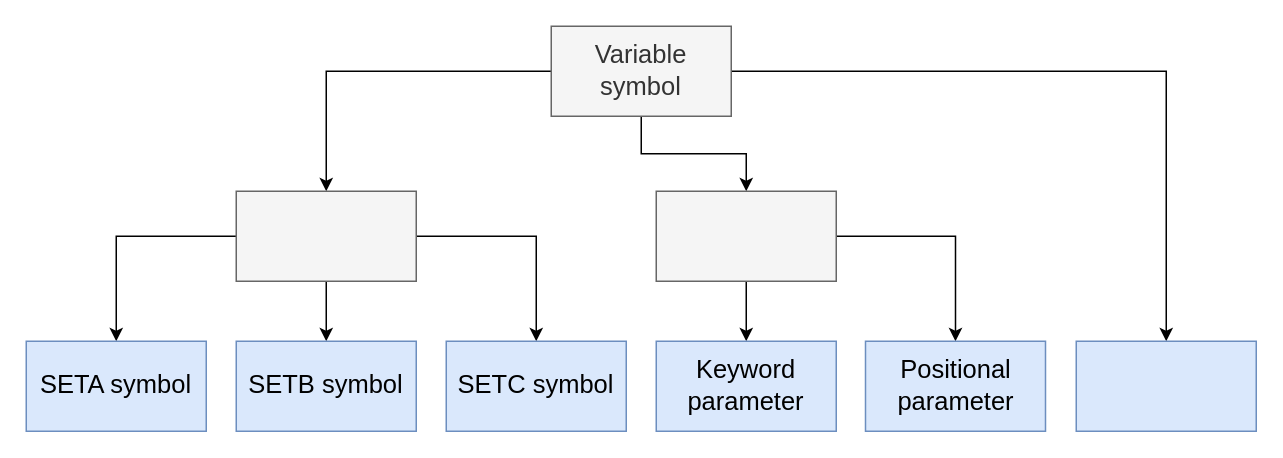
Image size: 1283x458. Some labels were removed from this diagram. Each missing label, with the centre of its shape:
Macro parameter base: point (745, 235)
SET symbol base: point (325, 235)
System variable: point (1165, 385)
